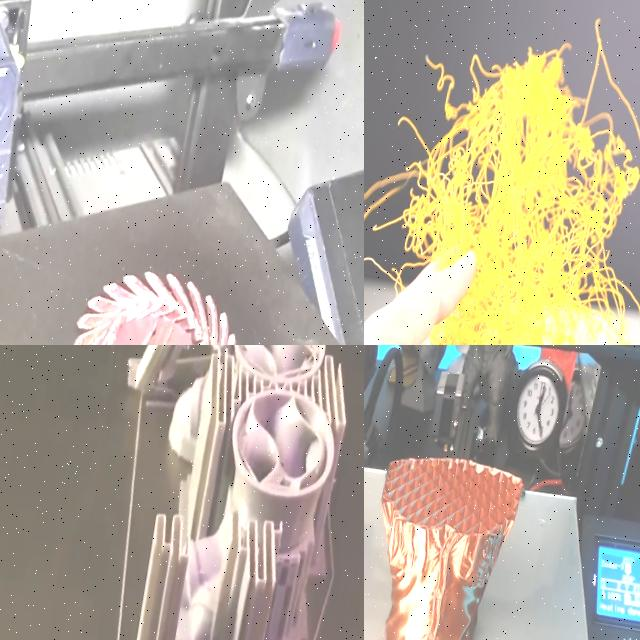spaghetti: (364, 43, 640, 345)
